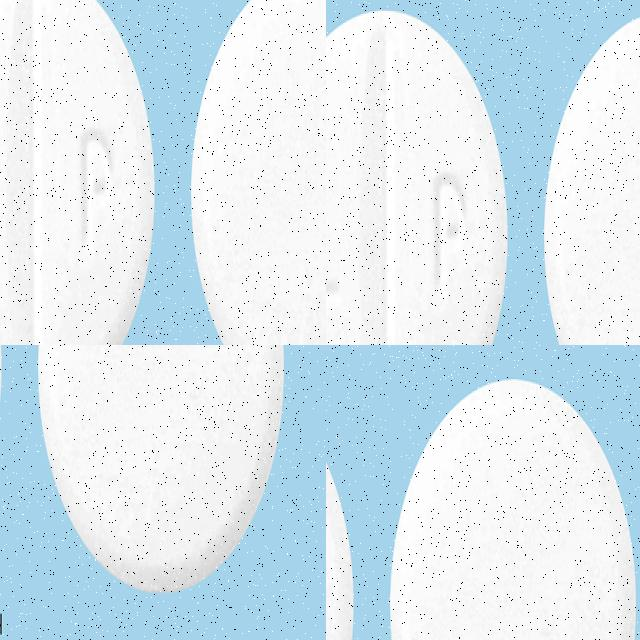Lamisil: (388, 380, 637, 640)
Levofexin - 500mg: (32, 345, 309, 409)
Rheumakin Tab: (0, 168, 202, 345), (179, 0, 326, 193)
Suprax Cap- Dong-A: (489, 0, 640, 215), (326, 243, 602, 345)
